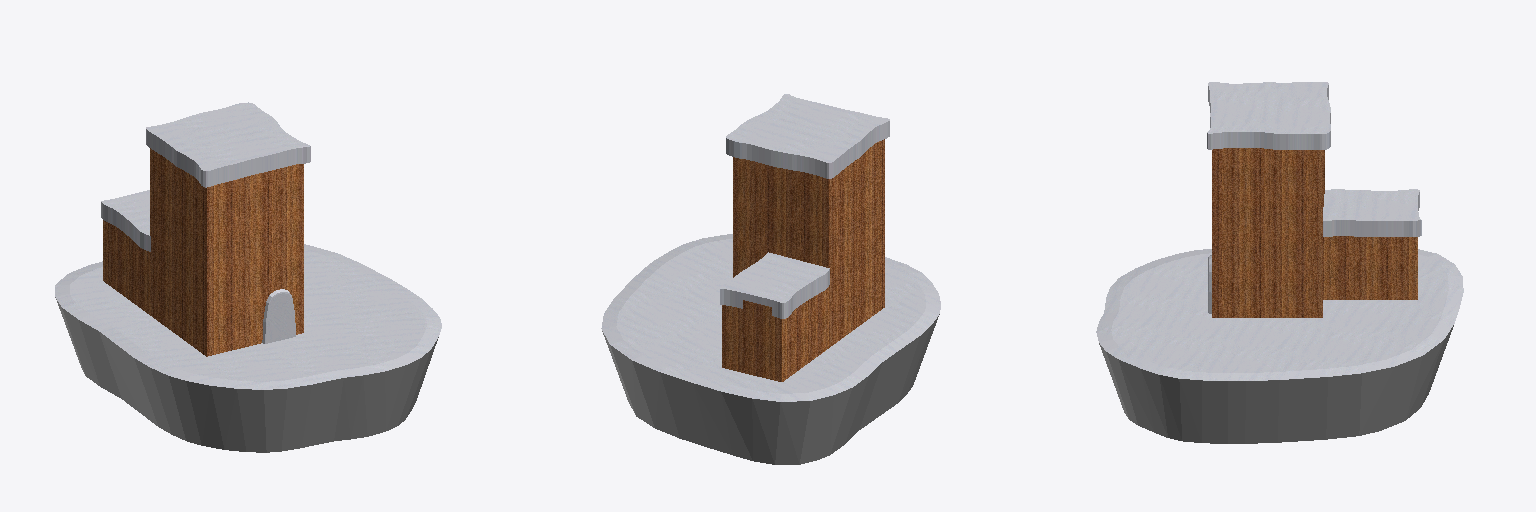
3 renders of one model, left to right at view 1: azimuth 30°, elevation 25°; view 2: azimuth 150°, elevation 25°; view 3: azimuth 270°, elevation 25°, orthographic.
Visible parts, largest first — view 1: Plane.000_Plane.062, Plane.001_Plane.067; view 2: Plane.000_Plane.062; view 3: Plane.000_Plane.062.
Boxes of the visible parts, box(x1,y1,x2,y2) form: Plane.000_Plane.062: box(55, 102, 441, 452); Plane.001_Plane.067: box(266, 293, 294, 343); Plane.000_Plane.062: box(601, 94, 940, 464); Plane.000_Plane.062: box(1096, 82, 1463, 443).
Size of the model in its own units: 3051 by 2748 by 3480.
Materials: 4 (3 with a texture image).